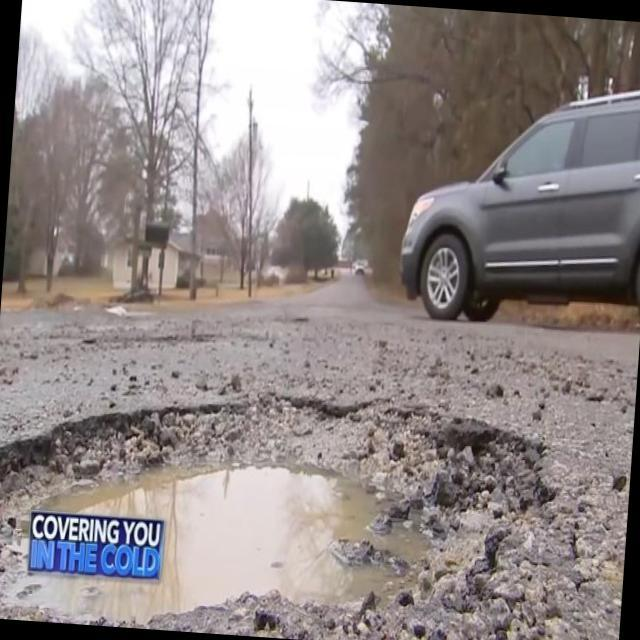Pothole: (0, 388, 622, 640)
